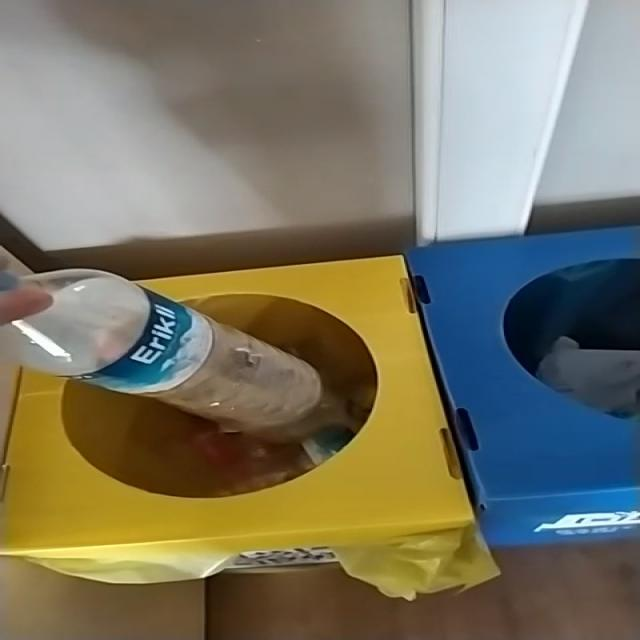plastic: (13, 269, 321, 433)
